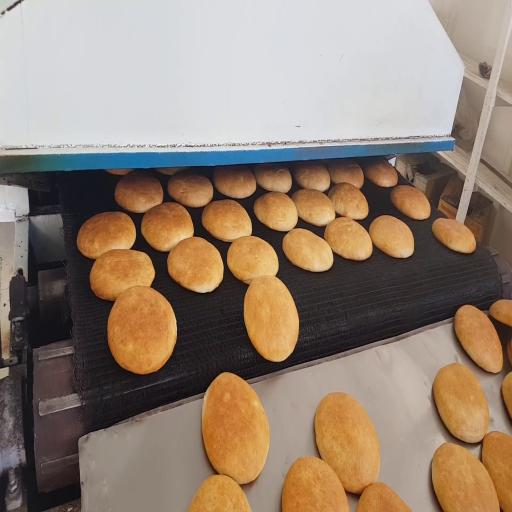bread: (202, 373, 269, 484), (315, 393, 380, 493), (108, 286, 176, 374), (244, 276, 299, 361), (432, 443, 499, 511), (433, 363, 489, 442), (282, 457, 349, 511), (90, 249, 155, 301), (454, 305, 503, 373), (168, 237, 223, 292), (77, 212, 136, 259), (141, 202, 193, 251), (227, 236, 278, 284), (482, 431, 511, 511), (188, 475, 250, 511), (283, 229, 333, 272), (115, 171, 163, 213), (324, 218, 372, 260), (202, 200, 251, 241), (369, 215, 414, 258), (254, 192, 297, 231), (168, 171, 213, 207), (292, 189, 335, 226), (432, 218, 476, 253), (356, 483, 411, 511), (329, 183, 368, 219), (213, 166, 256, 198), (391, 185, 430, 219), (294, 162, 330, 191), (254, 164, 291, 192), (327, 161, 363, 189), (364, 159, 397, 187), (490, 300, 511, 326), (502, 372, 511, 418), (156, 167, 186, 175), (106, 169, 132, 176), (507, 339, 511, 365)
